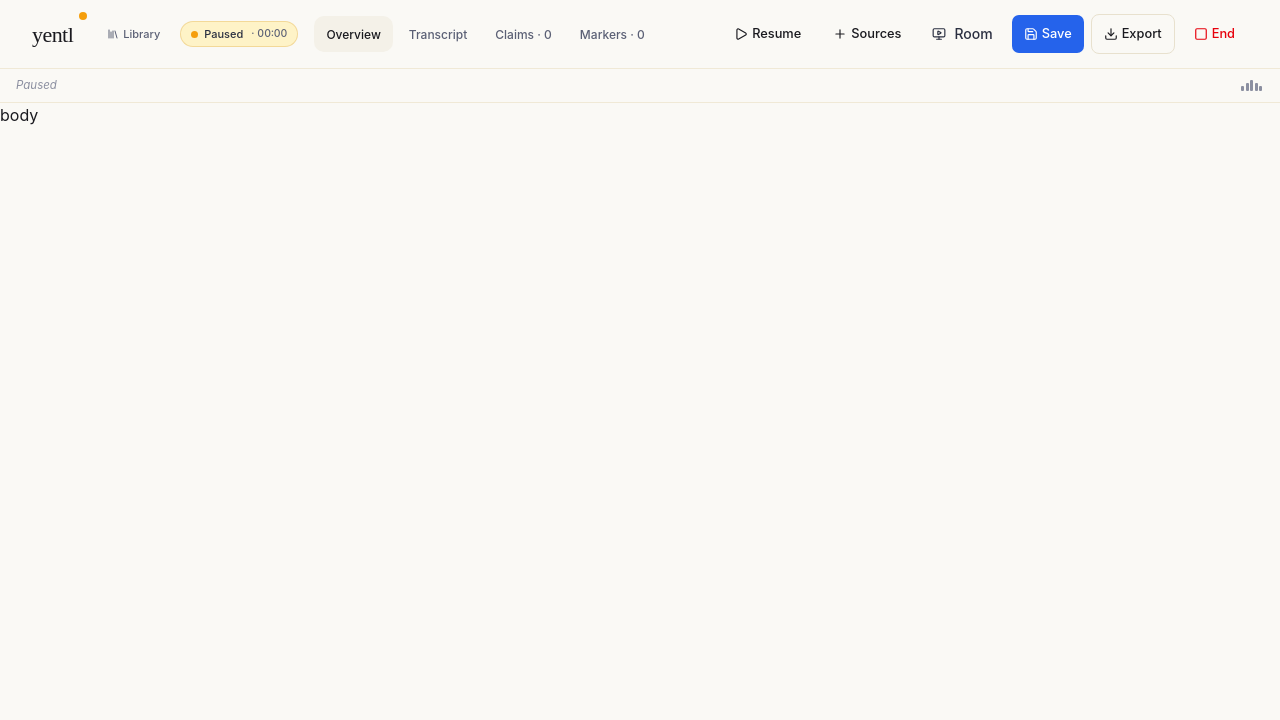
it: Save button — SessionShell › shows a visible retry error when local save fails
The width and height of the screenshot is (1280, 720).
Click the button "Save" at x=1048, y=34, box [1011,14,1085,54]
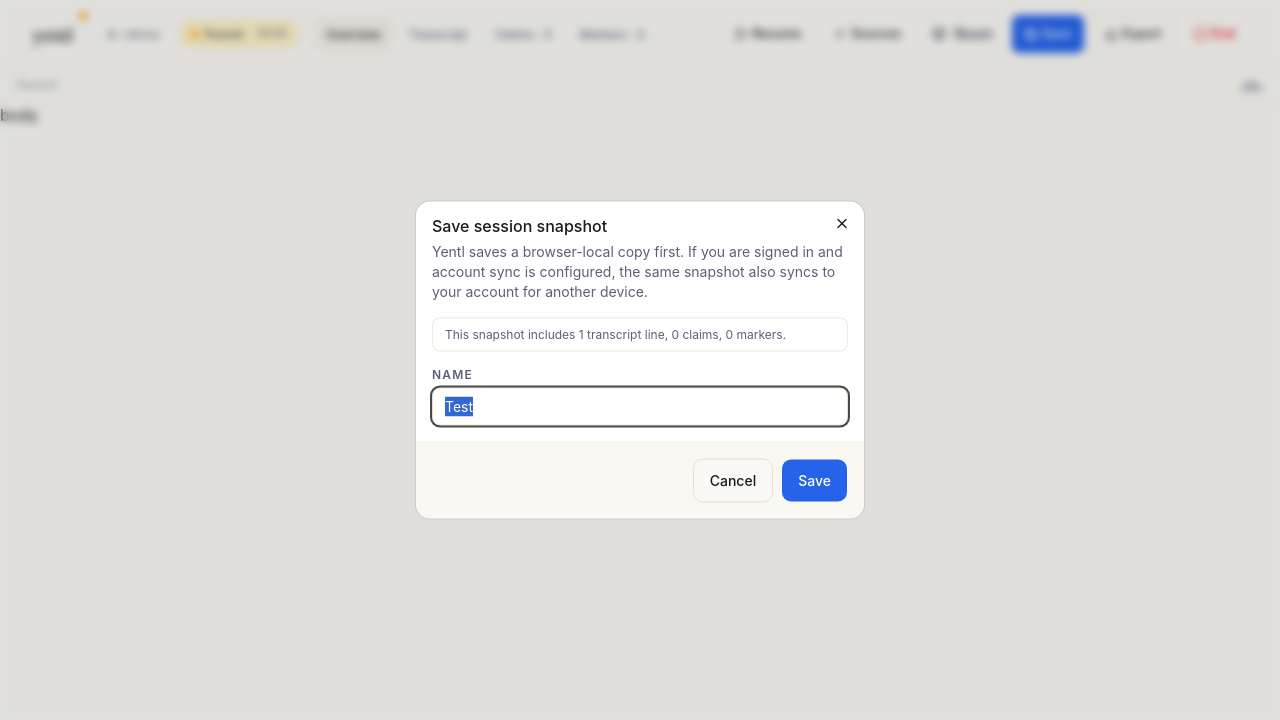
Click the button "Save" at x=815, y=480, box [781,458,848,502]
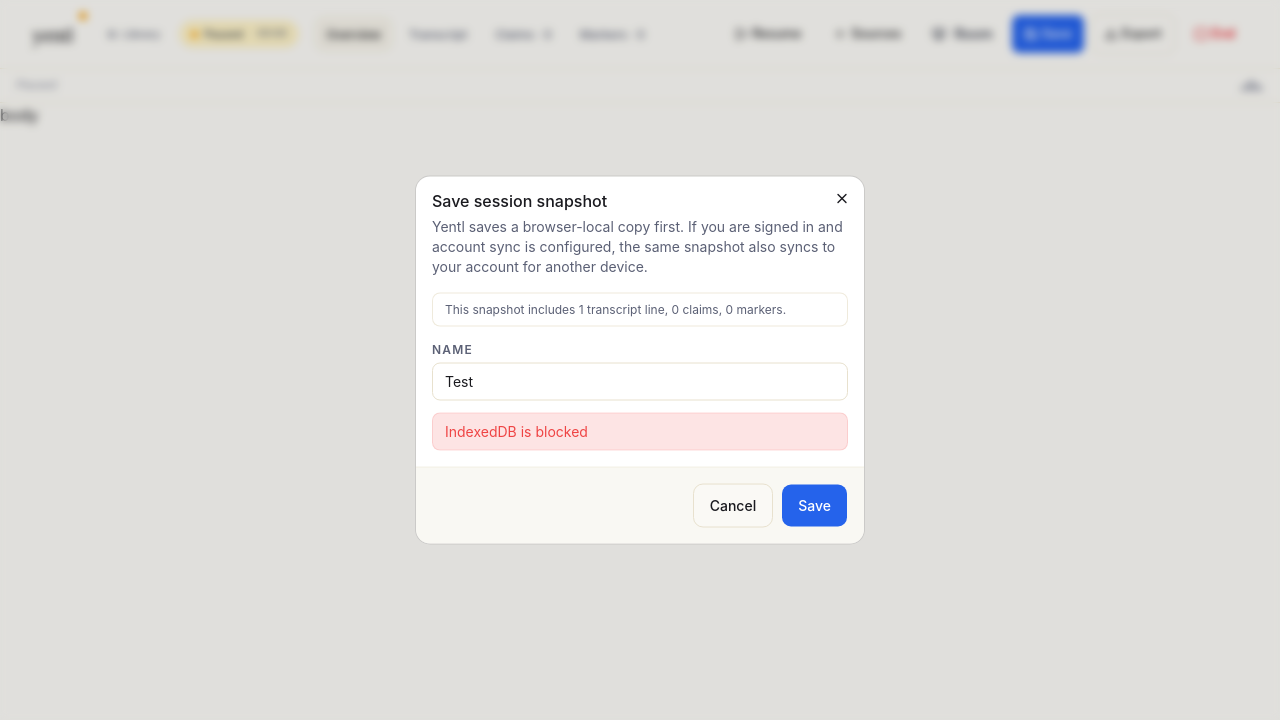
Now the message reads "IndexedDB is blocked", box [445,422,588,440]
